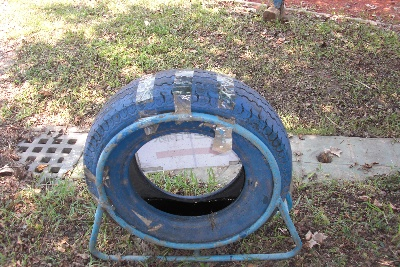tire: (82, 69, 295, 252)
